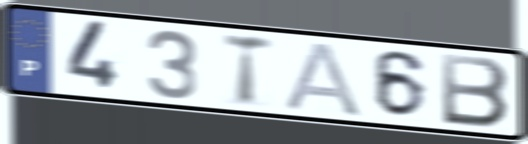3: (144, 27, 199, 100)
4: (63, 17, 128, 97)
6: (370, 48, 430, 121)
A: (282, 39, 366, 119)
B: (438, 51, 512, 131)
T: (220, 31, 276, 109)
